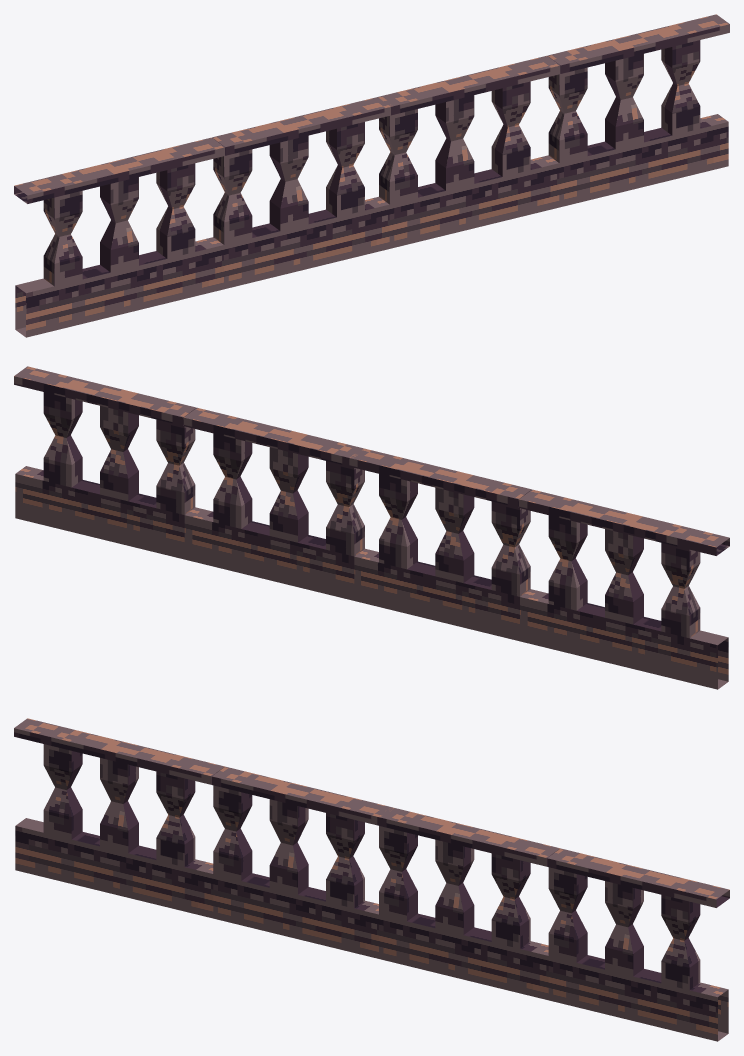
The model's file is Bannister.fbx.
3 views of the same model, one above another, from view 1: azimuth 30°, elevation 25°; view 2: azimuth 150°, elevation 25°; view 3: azimuth 330°, elevation 25° (orthographic).
Parts seen in each view (by area): view 1: Cube.109; view 2: Cube.109; view 3: Cube.109.
Part boxes in pixels (box(x1,y1,x2,y2)): Cube.109: box(14, 14, 729, 337); Cube.109: box(14, 366, 729, 689); Cube.109: box(14, 718, 729, 1041).
Size of the model in its own units: 550 by 107 by 18.29.
